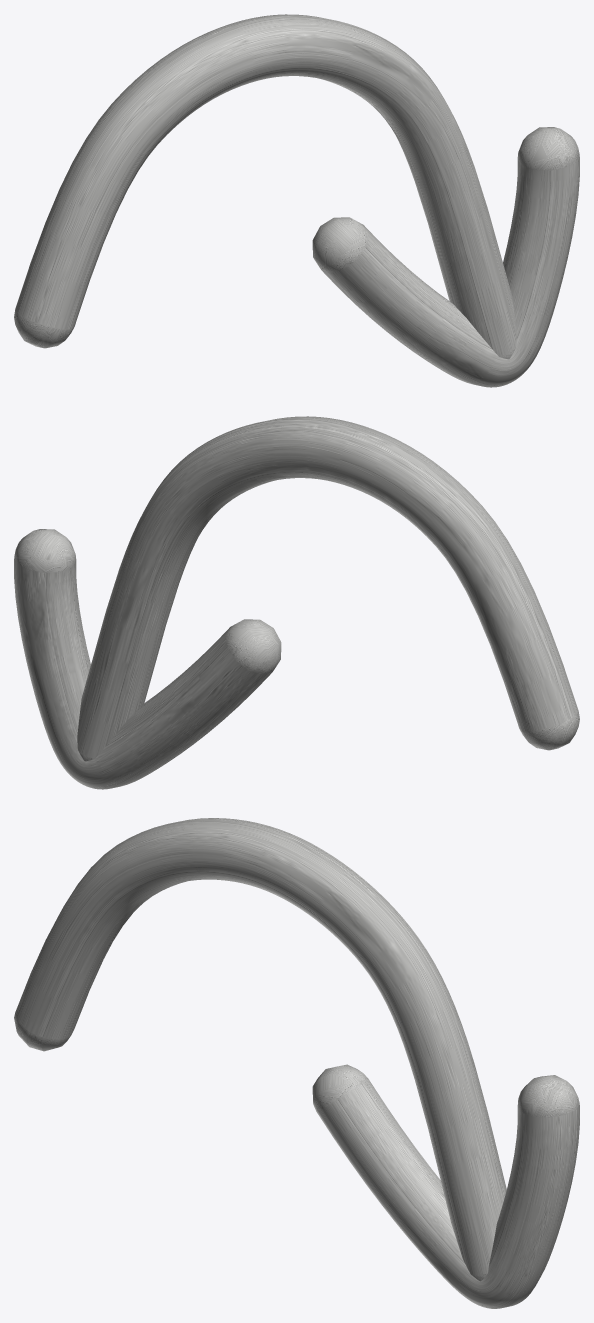
Rendered from 324cd4d2-608a-499c-8473-c5dec54aa67d.obj.
3 renders of one model, top to bottom at view 1: azimuth 30°, elevation 25°; view 2: azimuth 150°, elevation 25°; view 3: azimuth 330°, elevation 25°, orthographic.
Visible parts, largest first — view 1: s.0453, s.0455; view 2: s.0453, s.0455; view 3: s.0453, s.0455.
Boxes of the visible parts, x1,y1,x2,y2 form: s.0453: [14, 14, 516, 359]; s.0455: [312, 127, 579, 387]; s.0453: [77, 416, 579, 761]; s.0455: [14, 529, 281, 789]; s.0453: [14, 818, 506, 1281]; s.0455: [312, 1064, 579, 1308].
Bounding box in the file's own units: 0.3316 × 0.2396 × 0.0321.
1 material, 1 textured.
